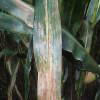Corn Gray leaf spot: (33, 0, 64, 99)
